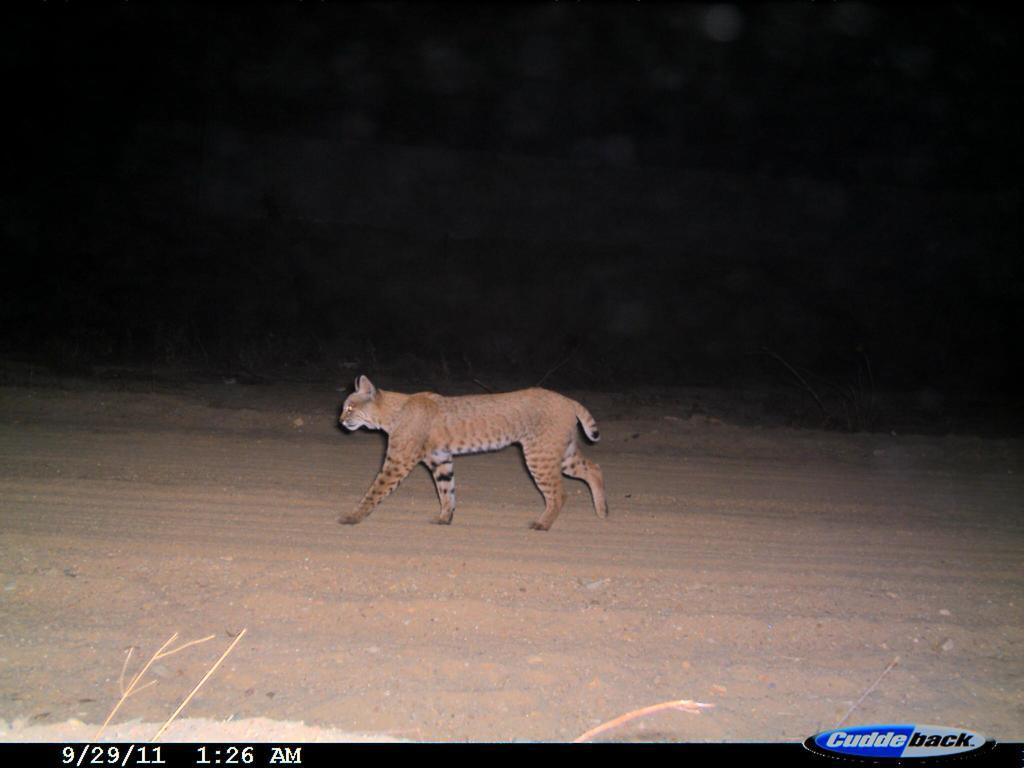bobcat: (322, 369, 638, 546)
